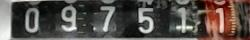digits: (176, 6, 192, 37), (60, 5, 77, 31), (137, 7, 154, 33), (24, 7, 40, 32), (100, 5, 115, 31), (215, 7, 224, 33)
